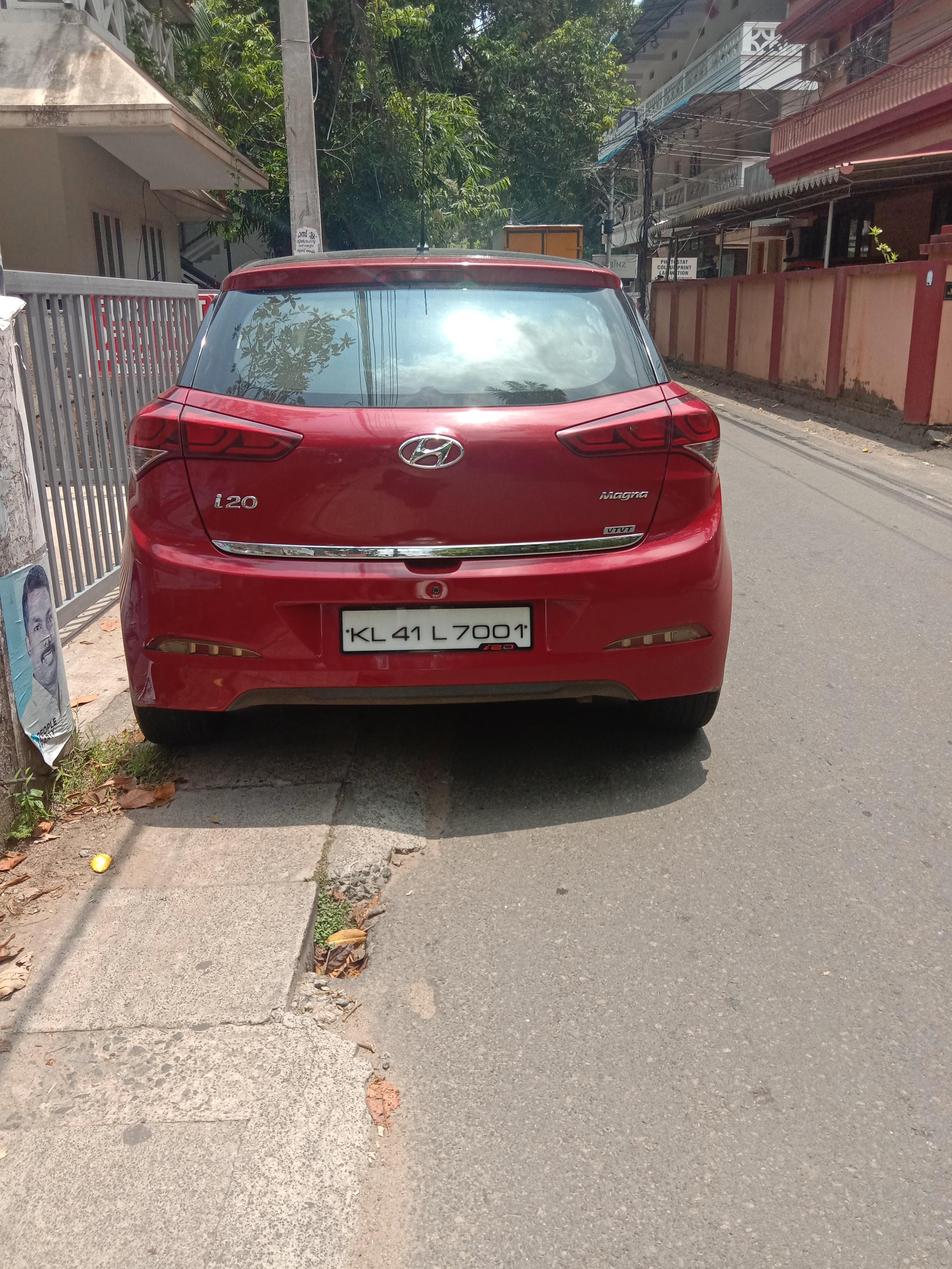number_platenumber_plate_textrotation: (338, 601, 535, 655)
